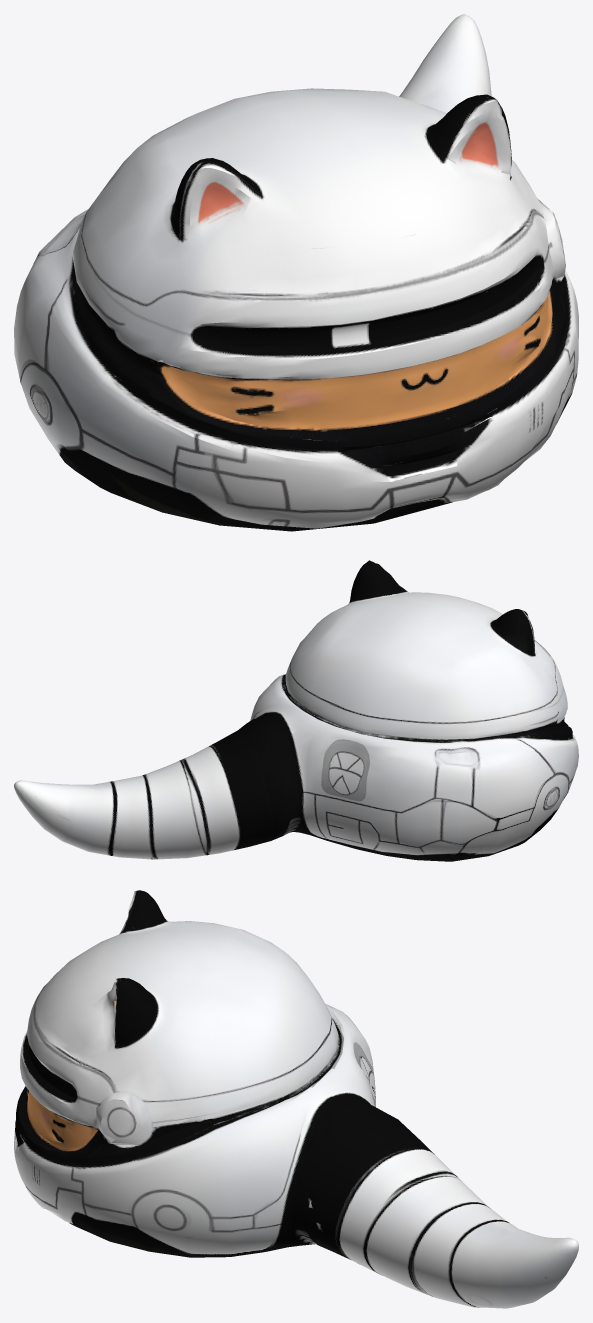
File: robocat.glb
The picture shows the model from 3 angles, top to bottom: view 1: azimuth 30°, elevation 25°; view 2: azimuth 150°, elevation 25°; view 3: azimuth 270°, elevation 25°; orthographic projection. The views are drawn at different scales.
Parts seen in each view (by area): view 1: Mesh0; view 2: Mesh0; view 3: Mesh0.
Part boxes in pixels (x1,y1,x2,y2): Mesh0: [14, 14, 578, 531]; Mesh0: [14, 560, 578, 861]; Mesh0: [14, 890, 578, 1308].
Bounding box in the file's own units: 1.91 × 0.9941 × 1.9.
1 material, 1 textured.
